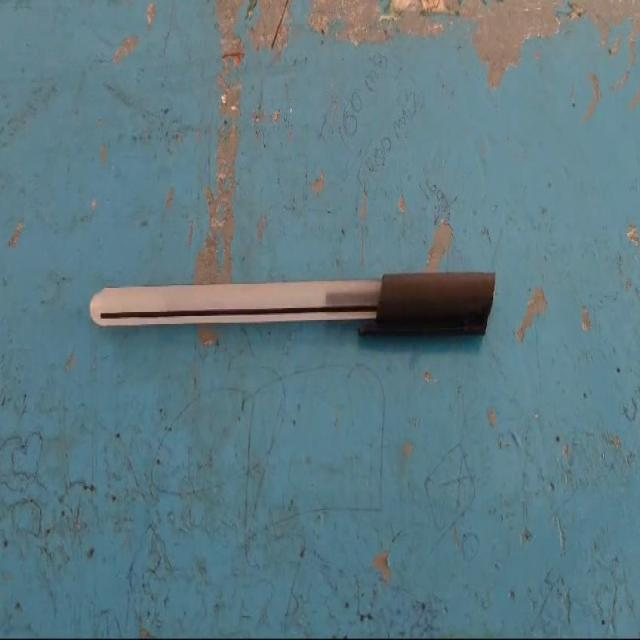pen: (72, 154, 507, 420)
